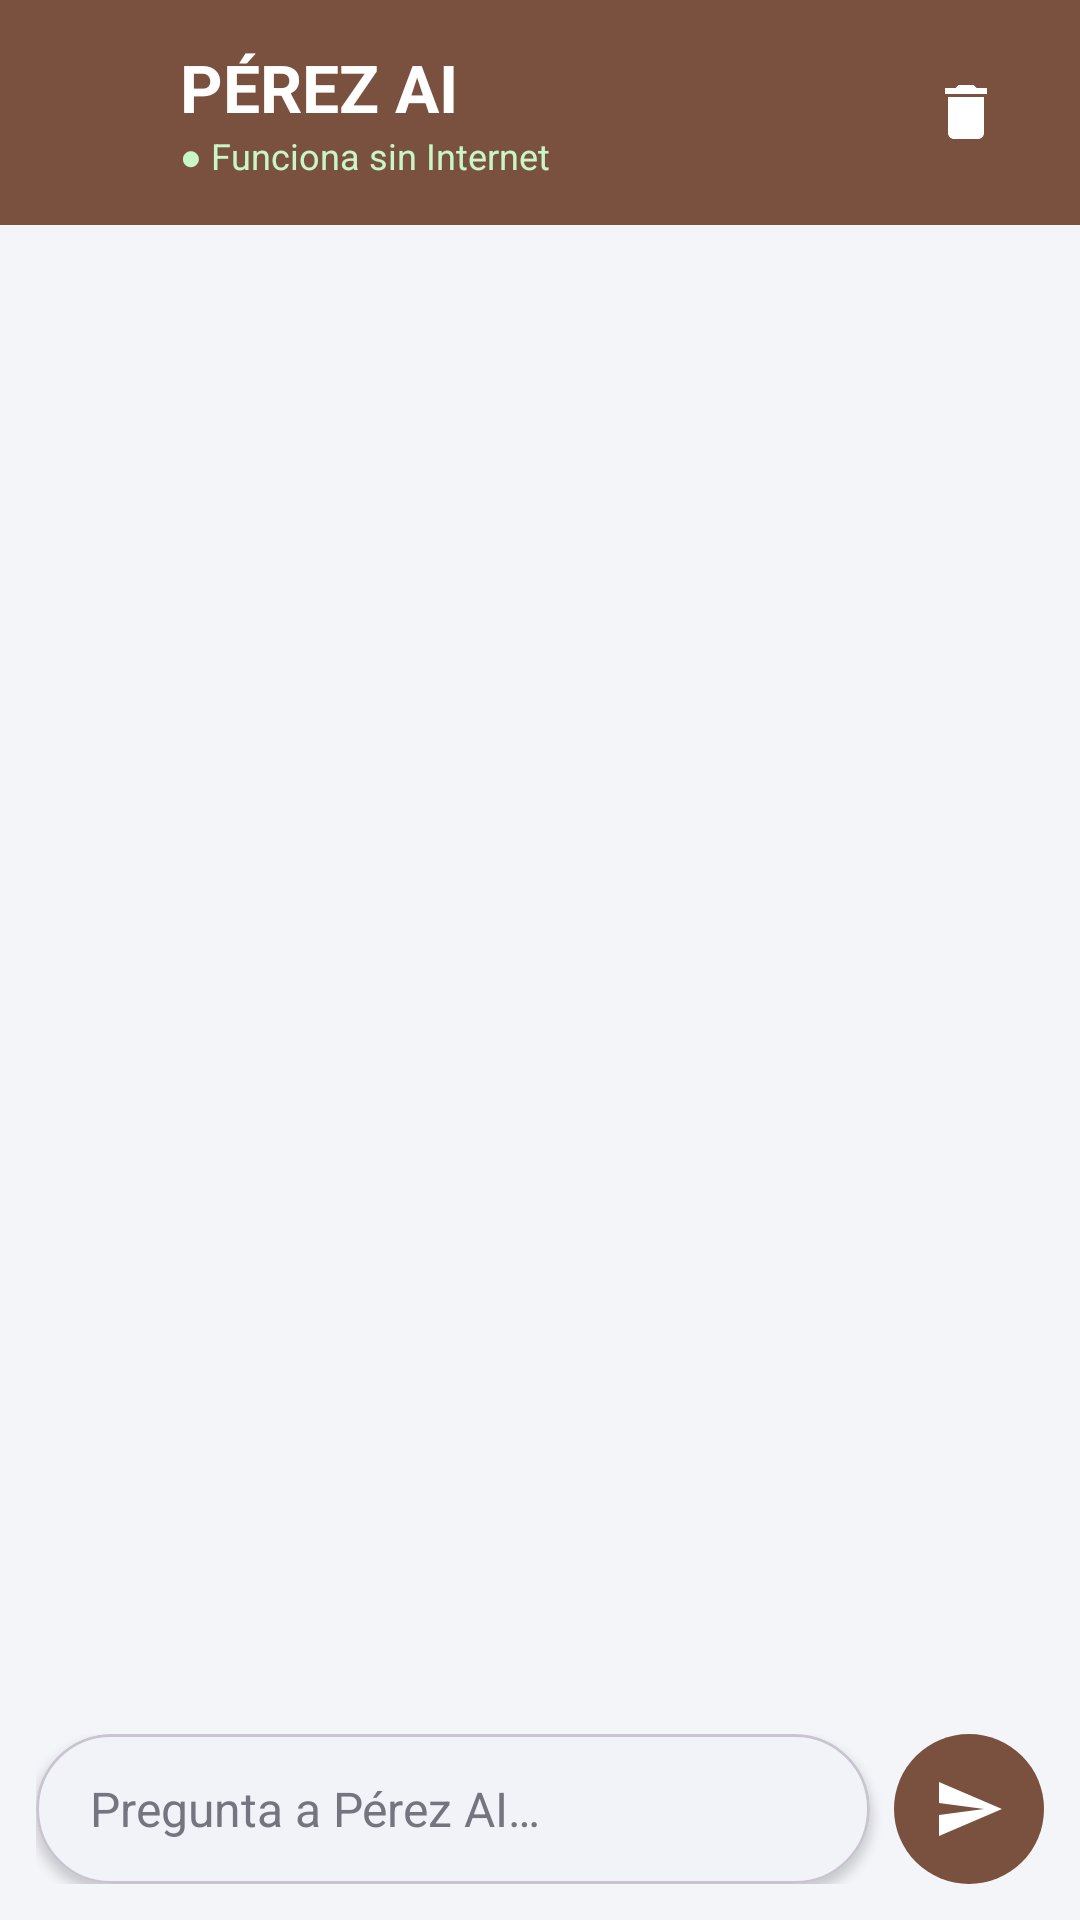

Icon click points for this 1080px×1920px phone screenshot, format [x,y]:
Borrar historial de la conversación: [966,112]
Enviar pregunta: [969,1809]
